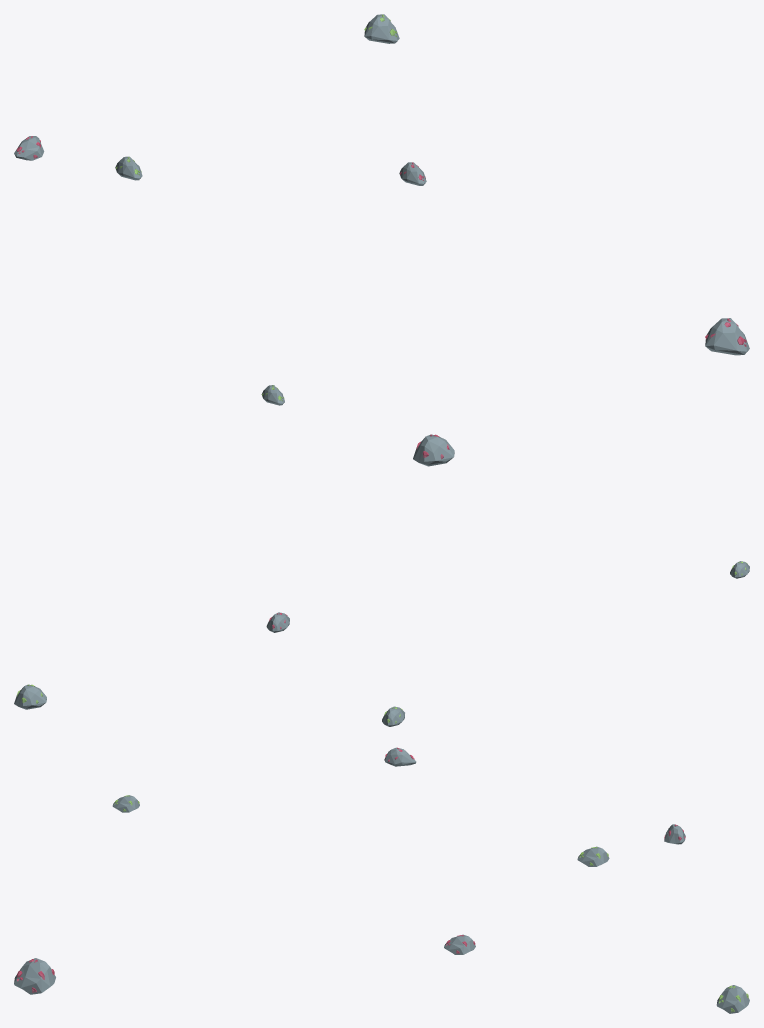
File: rock-package-02.fbx
3 views of the same model, one above another, from view 1: azimuth 30°, elevation 25°; view 2: azimuth 150°, elevation 25°; view 3: azimuth 270°, elevation 25° (orthographic). The views are drawn at different scales.
Visible parts, largest first — view 1: crystalRock.007, crystalRock.008; view 2: crystalRock.007, crystalRock.008; view 3: crystalRock.007, crystalRock.008, crystalRock.005, crystalRock.004.
Boxes of the visible parts, x1,y1,x2,y2 form: crystalRock.007: (705,318,749,355); crystalRock.008: (364,14,399,43); crystalRock.007: (413,434,454,466); crystalRock.008: (14,684,46,709); crystalRock.007: (14,958,55,994); crystalRock.008: (716,985,749,1013); crystalRock.005: (577,846,609,866); crystalRock.004: (444,934,475,954).
Size of what is drawn, in the model's own units: 7710 by 525 by 11744.
